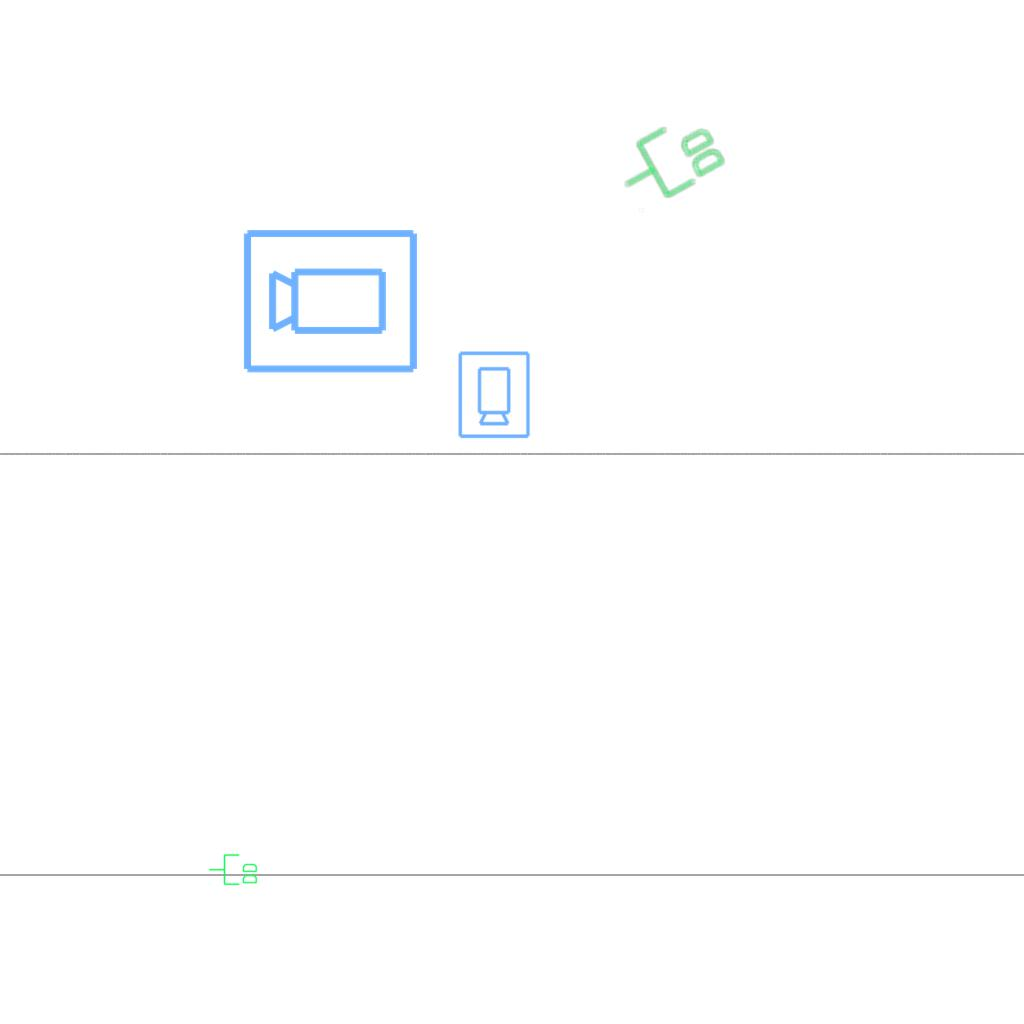Datenanschluss_zweifach: (607, 106, 732, 217), (208, 853, 259, 887)
KFO_Kamera_mit_Festobjektiv: (240, 223, 422, 377), (455, 349, 532, 440)
